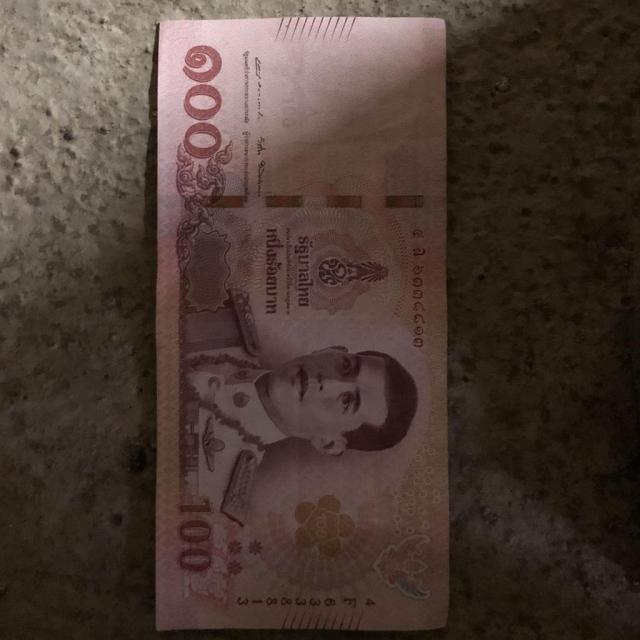THAI100: (156, 17, 448, 630)
